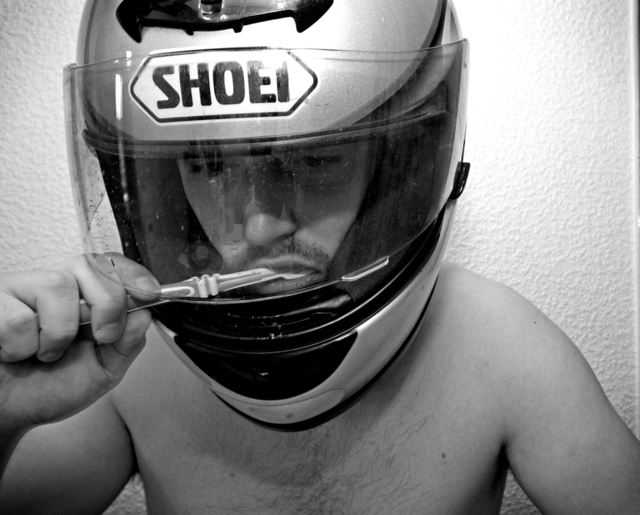helmet: (72, 2, 467, 409)
